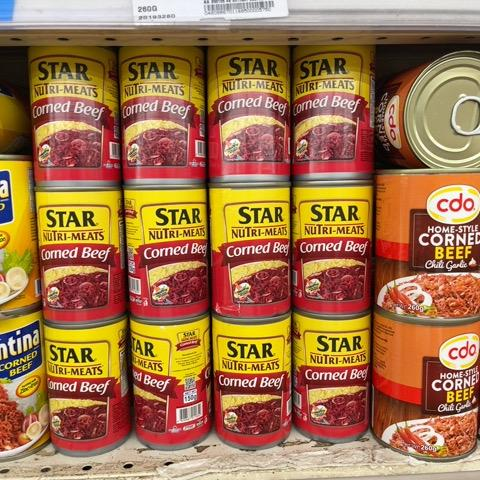canned-goods: (371, 307, 480, 464), (372, 168, 480, 322), (29, 182, 129, 328), (26, 42, 122, 187), (375, 45, 480, 174), (42, 312, 133, 459), (121, 179, 215, 321), (120, 48, 209, 184), (209, 180, 295, 320), (127, 310, 212, 451), (209, 45, 295, 184), (289, 177, 375, 316), (291, 44, 379, 179), (211, 314, 294, 451), (293, 305, 375, 441), (0, 306, 50, 464), (0, 144, 40, 315)
